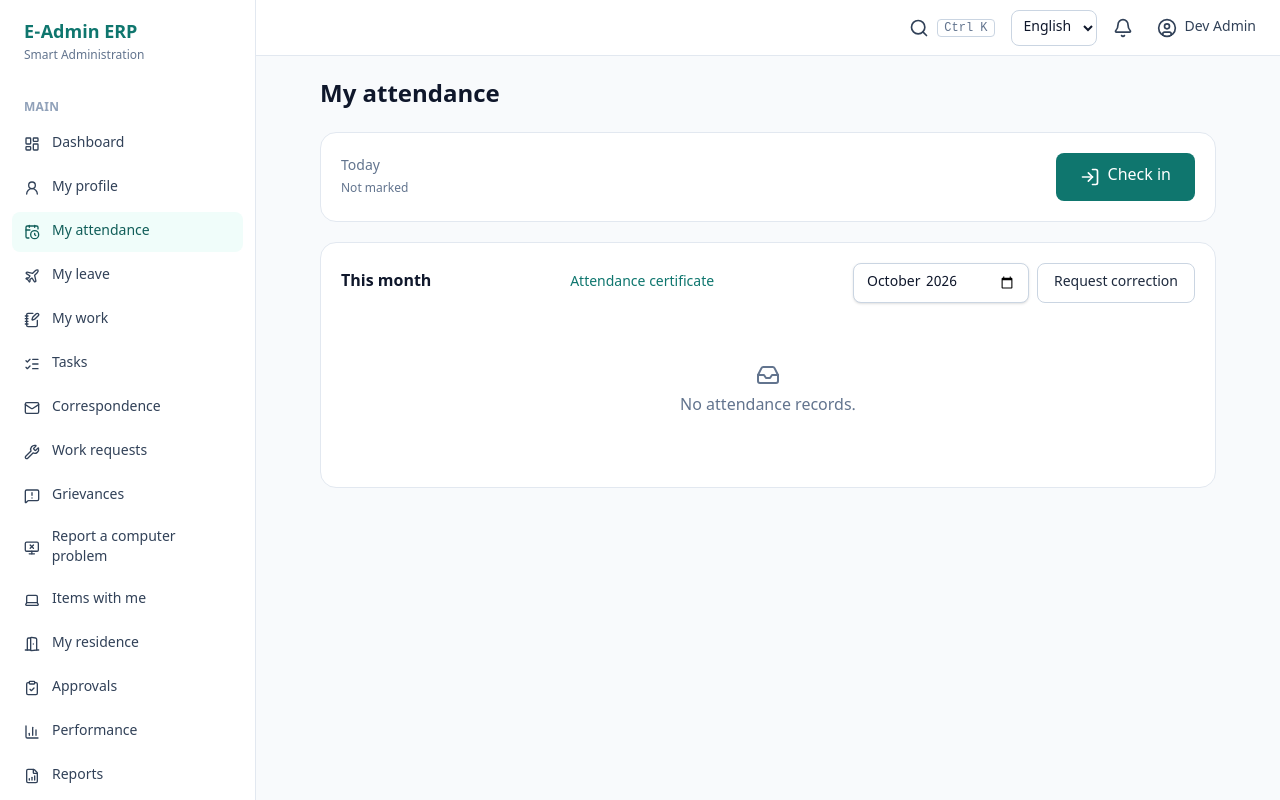
phase 4 screens › checks in from My attendance
This screenshot has width=1280, height=800.
Click the button "Check in".
click(1125, 177)  # box 1056,153 -> 1195,201
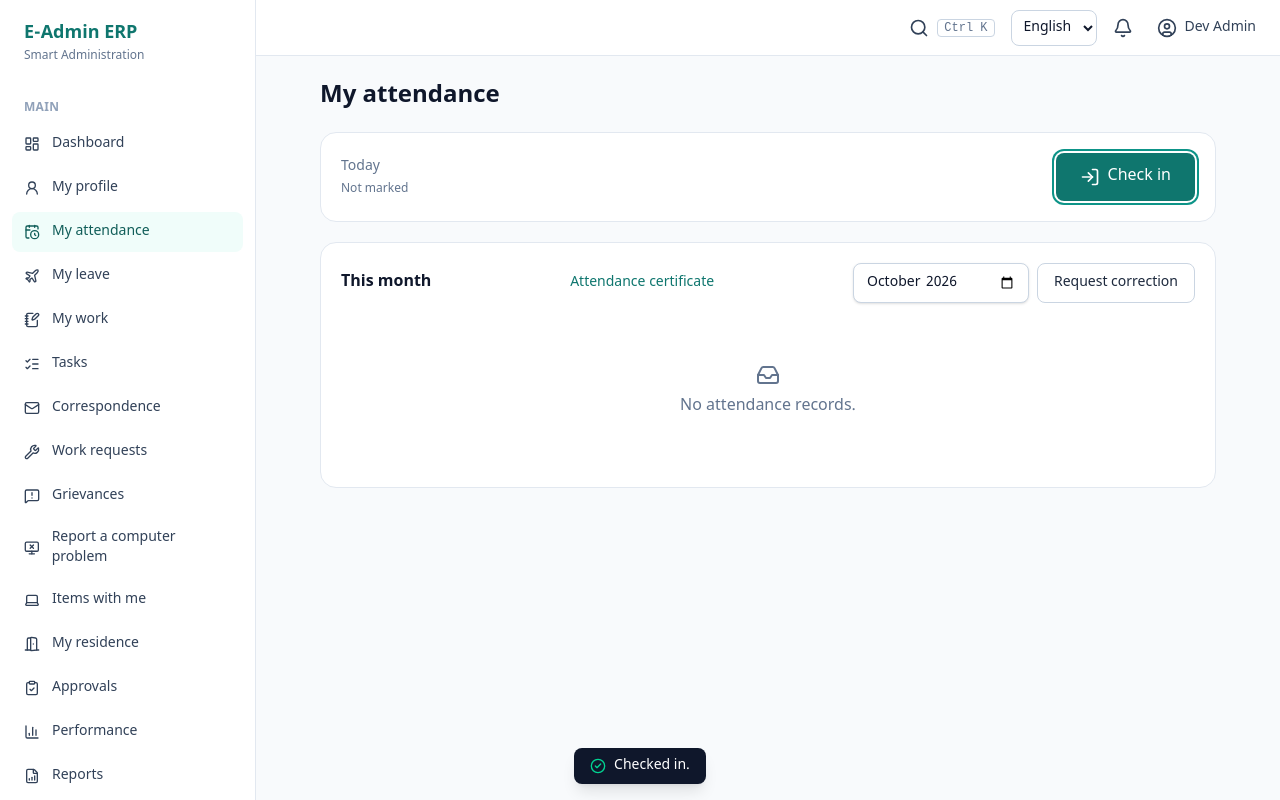
Now the text "Checked in." is shown, box 574,748 -> 706,784
